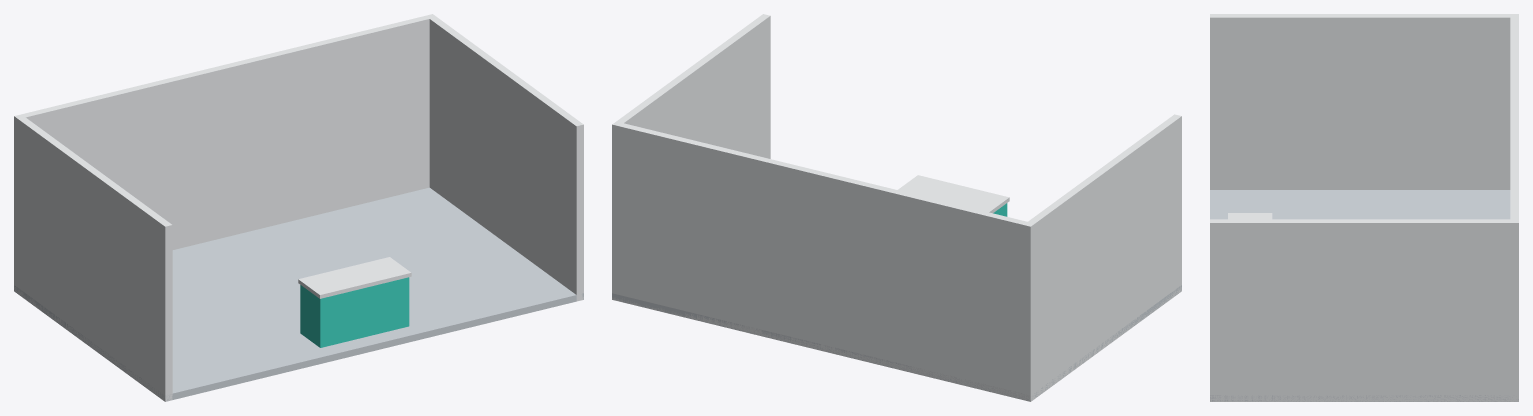
3 views of the same model, side by side, from view 1: azimuth 30°, elevation 25°; view 2: azimuth 150°, elevation 25°; view 3: azimuth 270°, elevation 25° (orthographic). The views are drawn at different scales.
Visible parts, largest first — view 1: Exhibition Booth Concept; view 2: Exhibition Booth Concept; view 3: Exhibition Booth Concept.
Boxes of the visible parts, left/top/right/bottom form: Exhibition Booth Concept: left=14, top=14, right=583, bottom=401; Exhibition Booth Concept: left=612, top=14, right=1181, bottom=401; Exhibition Booth Concept: left=1210, top=14, right=1518, bottom=401.
Size of the model in its own units: 8 by 3.2 by 5.
